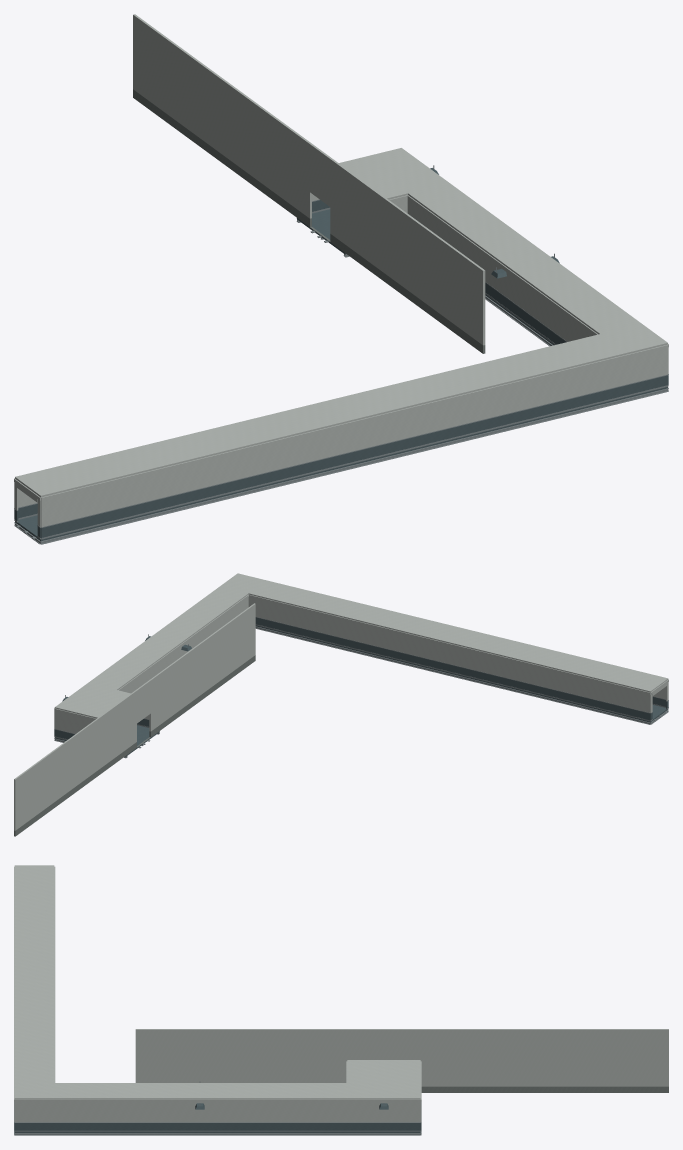
File: ORCHARD_SERVICE_GATEWAY_r001.glb
3 views of the same model, one above another, from view 1: azimuth 30°, elevation 25°; view 2: azimuth 150°, elevation 25°; view 3: azimuth 270°, elevation 25° (orthographic). The views are drawn at different scales.
Parts seen in each view (by area): view 1: ORX_BATCH_001, ORCH_PerimeterWall_1_ORCHARD_SERVICE_GATEWAY, ORX_BATCH_000, ORX_BATCH_002, ORCH_PerimeterDado_1_ORCHARD_SERVICE_GATEWAY; view 2: ORX_BATCH_001, ORCH_PerimeterWall_1_ORCHARD_SERVICE_GATEWAY, ORX_BATCH_000, ORX_BATCH_002, ORCH_PerimeterDado_1_ORCHARD_SERVICE_GATEWAY; view 3: ORCH_PerimeterWall_1_ORCHARD_SERVICE_GATEWAY, ORX_BATCH_001, ORX_BATCH_000, ORX_BATCH_002, ORCH_PerimeterDado_1_ORCHARD_SERVICE_GATEWAY.
Boxes of the visible parts, <box> form: ORX_BATCH_001: <box>14,148,668,527</box>; ORCH_PerimeterWall_1_ORCHARD_SERVICE_GATEWAY: <box>133,14,485,345</box>; ORX_BATCH_000: <box>14,168,668,541</box>; ORX_BATCH_002: <box>14,165,668,544</box>; ORCH_PerimeterDado_1_ORCHARD_SERVICE_GATEWAY: <box>133,89,485,353</box>; ORX_BATCH_001: <box>54,573,668,733</box>; ORCH_PerimeterWall_1_ORCHARD_SERVICE_GATEWAY: <box>14,603,255,830</box>; ORX_BATCH_000: <box>54,617,668,755</box>; ORX_BATCH_002: <box>54,617,668,758</box>; ORCH_PerimeterDado_1_ORCHARD_SERVICE_GATEWAY: <box>14,655,255,836</box>; ORCH_PerimeterWall_1_ORCHARD_SERVICE_GATEWAY: <box>135,1029,668,1086</box>; ORX_BATCH_001: <box>14,865,421,1122</box>; ORX_BATCH_000: <box>14,1103,421,1132</box>; ORX_BATCH_002: <box>14,1081,421,1135</box>; ORCH_PerimeterDado_1_ORCHARD_SERVICE_GATEWAY: <box>421,1086,668,1092</box>.
Bounding box in the file's own units: 61.3 × 8.06 × 71.24.
Materials: 6 (5 with a texture image).
